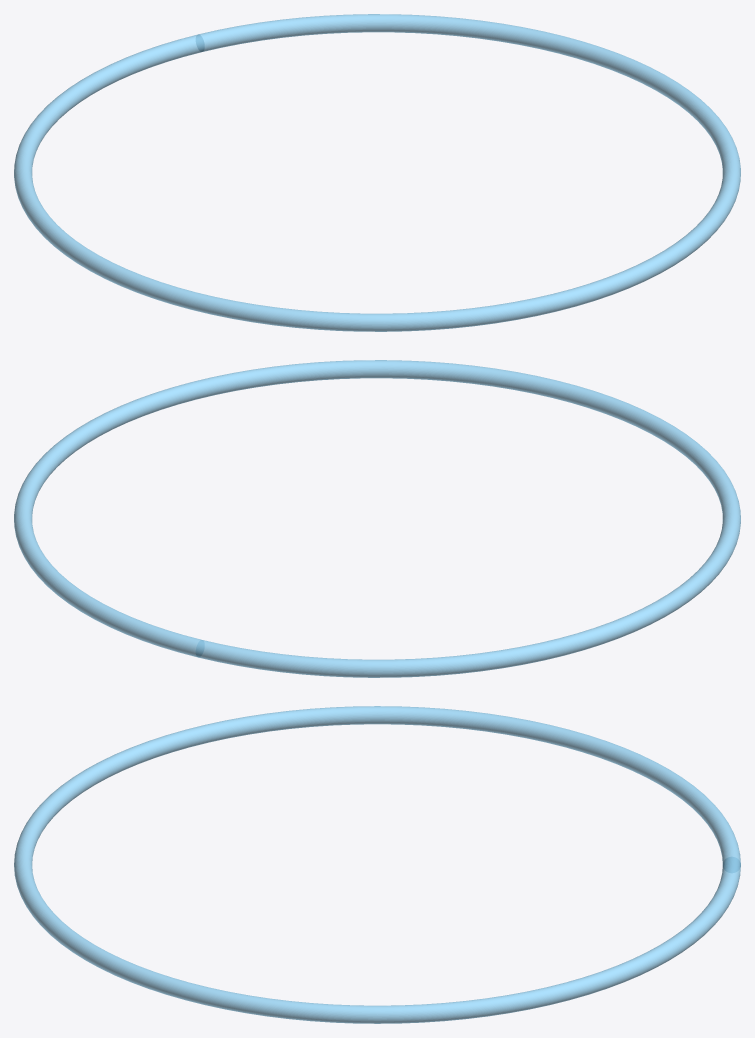
File: Ring.gltf
3 renders of one model, top to bottom at view 1: azimuth 30°, elevation 25°; view 2: azimuth 150°, elevation 25°; view 3: azimuth 270°, elevation 25°, orthographic.
Parts seen in each view (by area): view 1: Torus001; view 2: Torus001; view 3: Torus001.
Part boxes in pixels (x1=…): Torus001: x1=14, y1=14, x2=740, y2=331; Torus001: x1=14, y1=360, x2=740, y2=677; Torus001: x1=14, y1=706, x2=740, y2=1023.
Size of the model in its own units: 2.32 by 0.0581 by 2.32.
